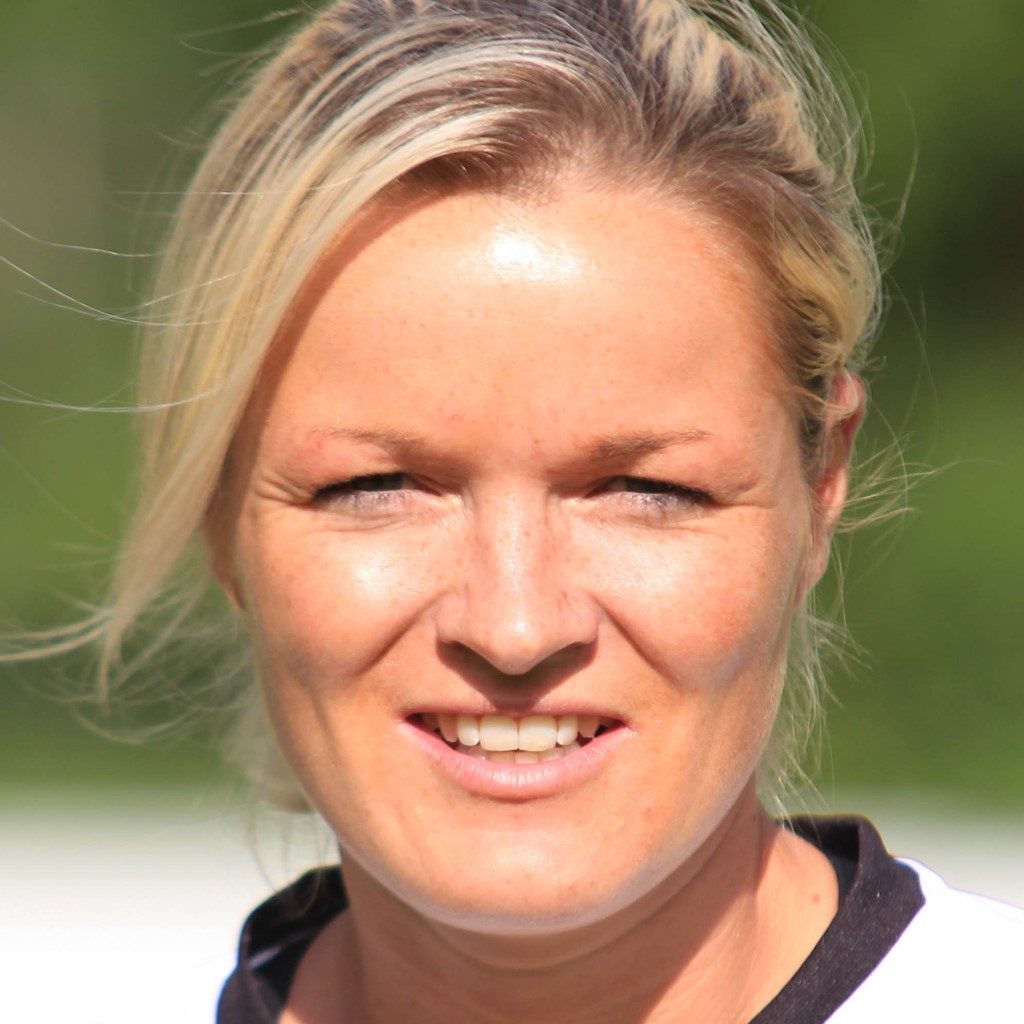sin_mascara: (210, 39, 803, 946)
